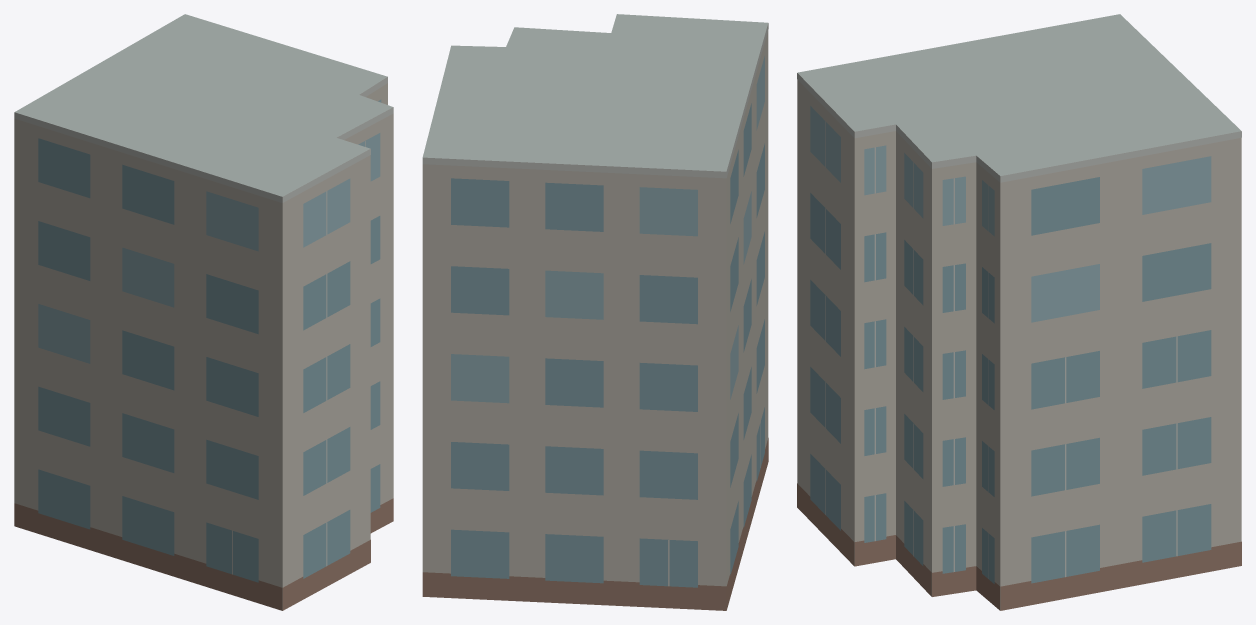
File: survey-upis-32942479.glb
3 views of the same model, side by side, from view 1: azimuth 30°, elevation 25°; view 2: azimuth 150°, elevation 25°; view 3: azimuth 270°, elevation 25° (orthographic). The views are drawn at different scales.
Visible parts, largest first — view 1: survey-upis-32942479.tmp; view 2: survey-upis-32942479.tmp; view 3: survey-upis-32942479.tmp.
Part boxes in pixels (left/top/right/bottom): survey-upis-32942479.tmp: left=14, top=14, right=393, bottom=610; survey-upis-32942479.tmp: left=422, top=14, right=768, bottom=610; survey-upis-32942479.tmp: left=797, top=14, right=1241, bottom=610.
Bounding box in the file's own units: 12.93 × 16.15 × 14.98.
